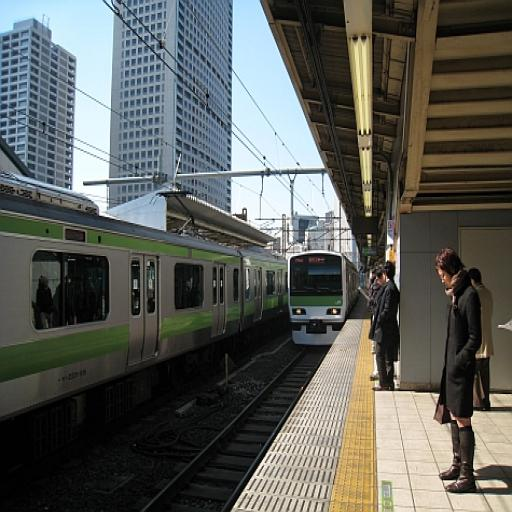platform_edge: (228, 383, 402, 512), (313, 325, 370, 375)
